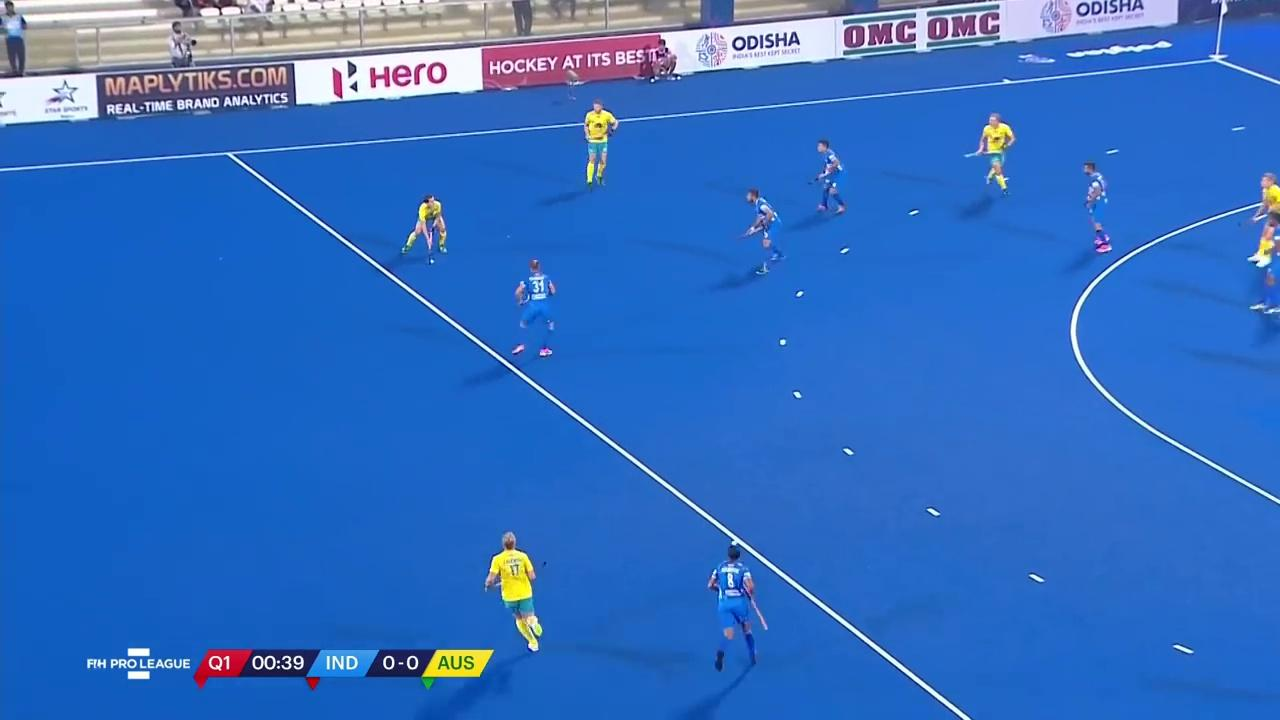ball: (426, 257, 438, 266)
